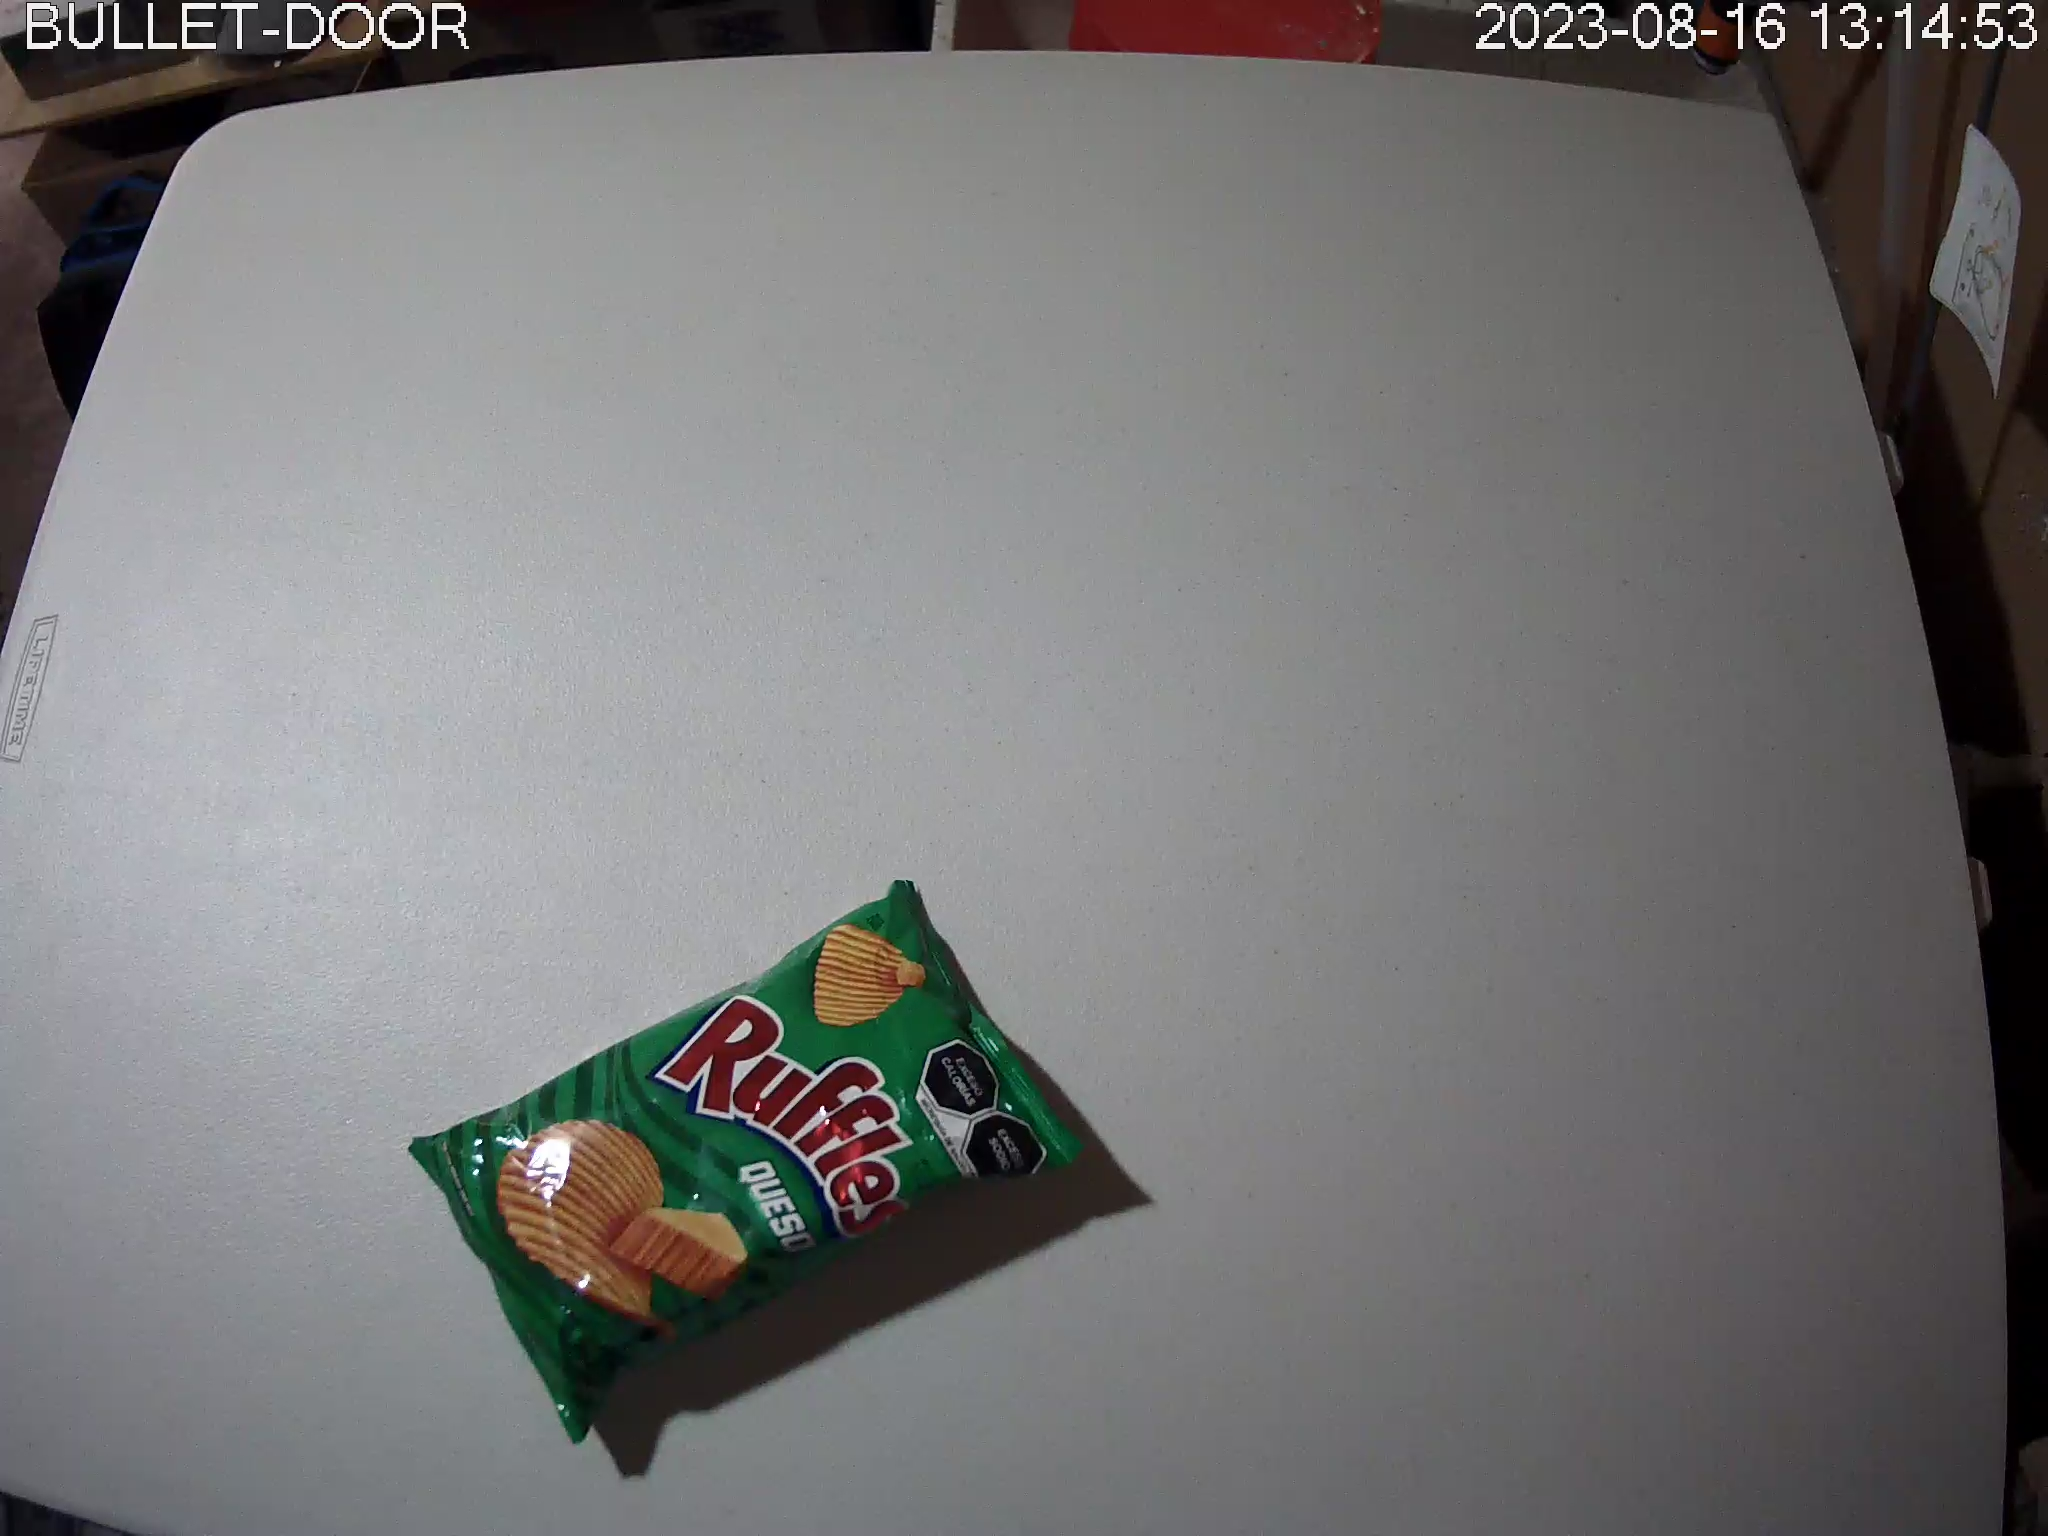RufflesQ_48_F: (406, 879, 1090, 1447)
